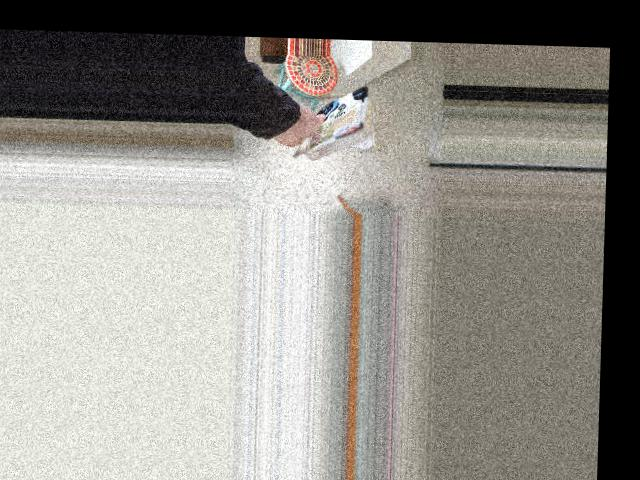cheese: (274, 70, 378, 171)
